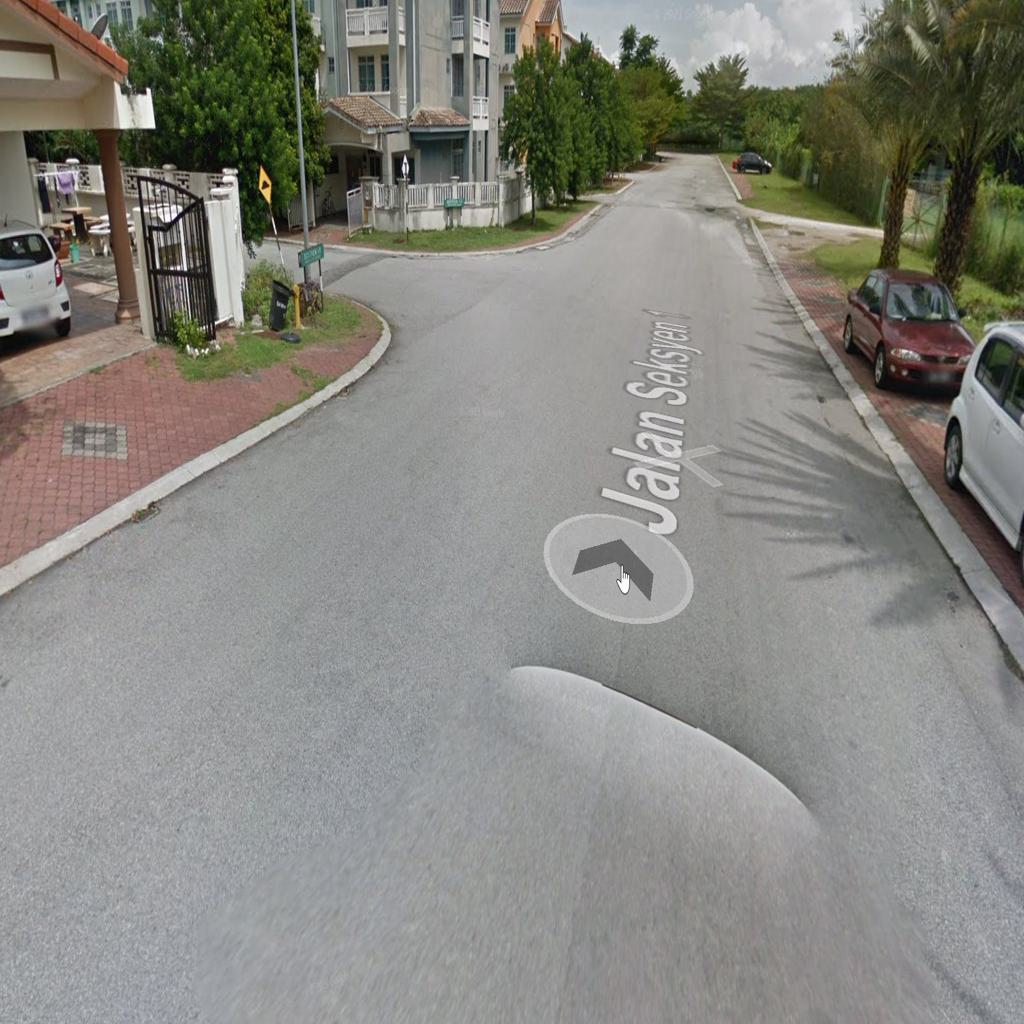Junction: (251, 211, 611, 398)
